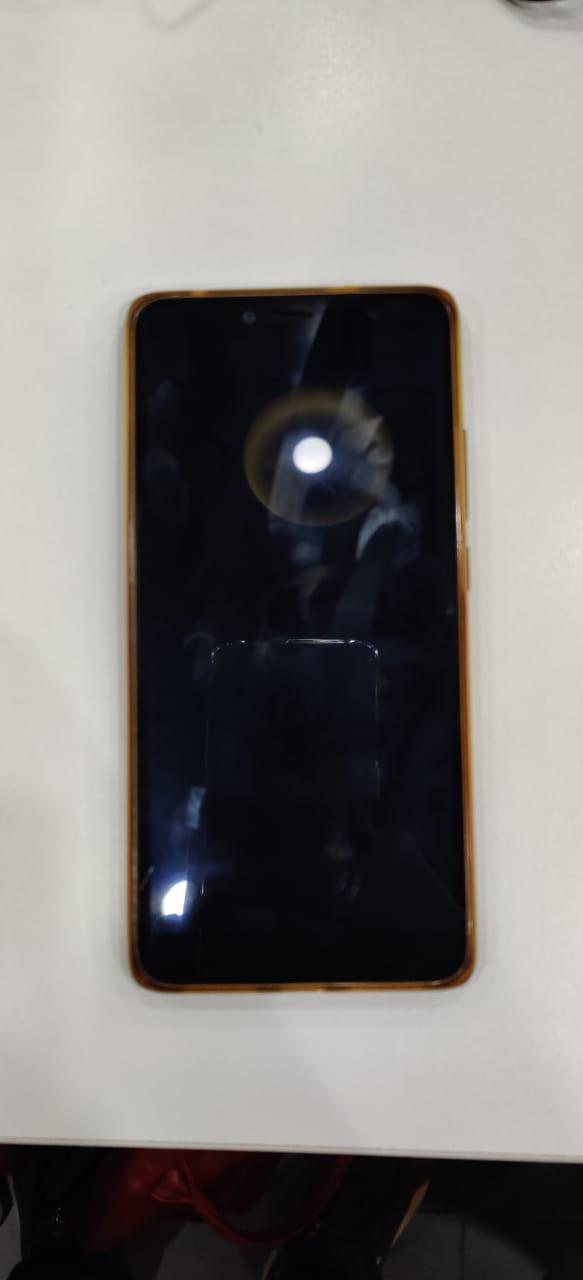Phone: (98, 243, 514, 1021)
